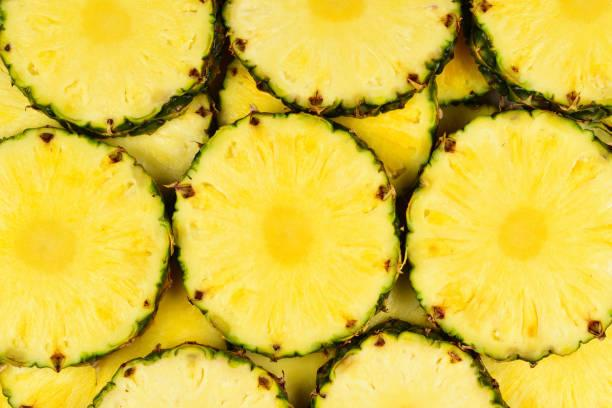pineapple: (175, 111, 398, 354), (415, 112, 612, 360), (5, 122, 173, 371), (0, 0, 226, 143), (222, 2, 472, 121), (303, 324, 507, 408), (472, 1, 612, 117), (85, 344, 295, 408)
